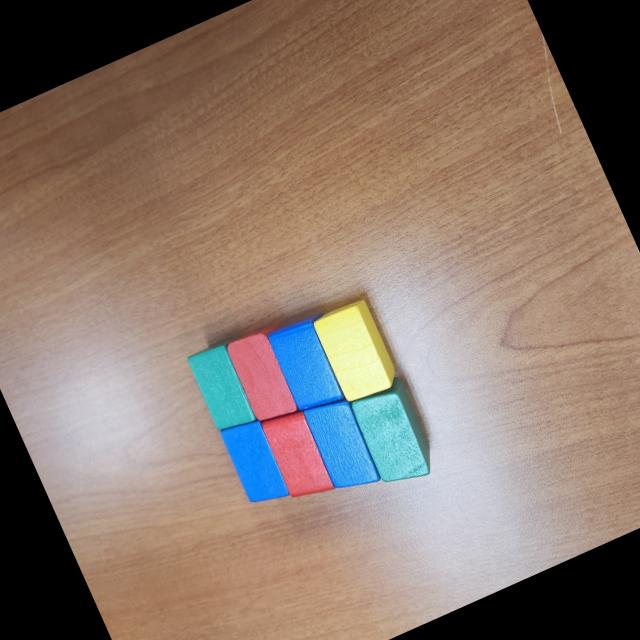blue: (265, 310, 360, 420), (300, 390, 384, 500), (218, 414, 292, 512)
green: (343, 372, 442, 493), (185, 340, 260, 439)
red: (224, 321, 316, 428), (257, 404, 337, 508)
yellow: (311, 297, 404, 409)
